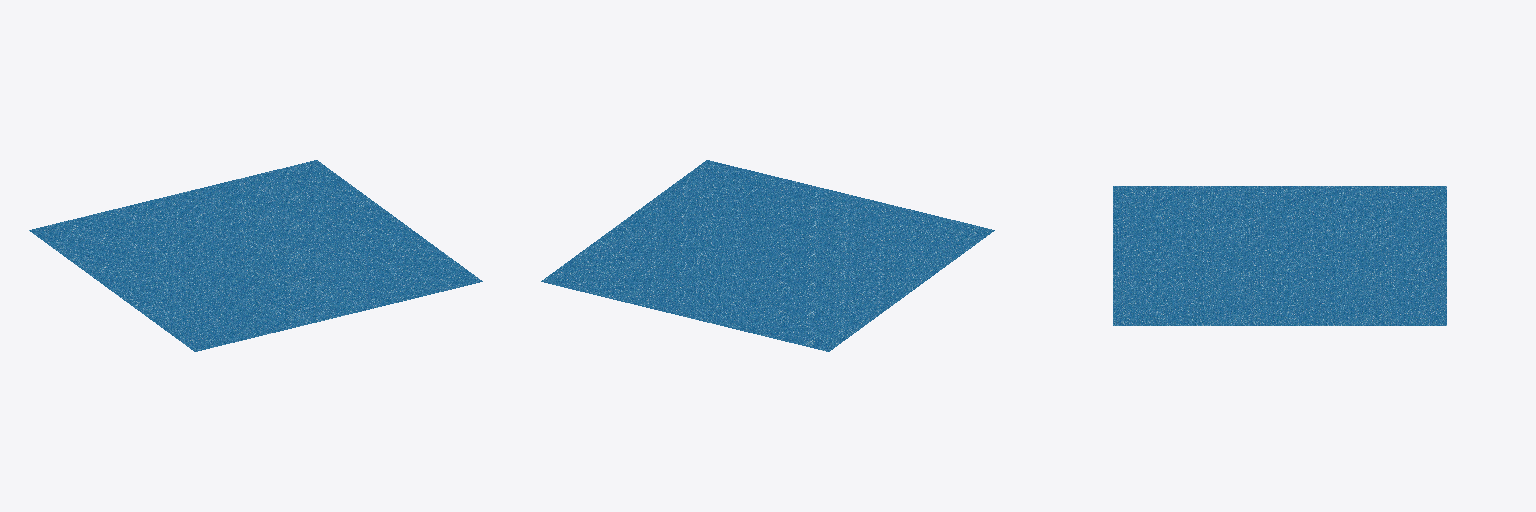
3 views of the same model, side by side, from view 1: azimuth 30°, elevation 25°; view 2: azimuth 150°, elevation 25°; view 3: azimuth 270°, elevation 25° (orthographic).
Visible parts, largest first — view 1: Plane; view 2: Plane; view 3: Plane.
Boxes of the visible parts, <box> form: Plane: <box>29,160,482,351</box>; Plane: <box>541,160,994,351</box>; Plane: <box>1113,186,1446,325</box>.
Bounding box in the file's own units: 1000 × 0 × 1000.
1 materials, 1 textured.